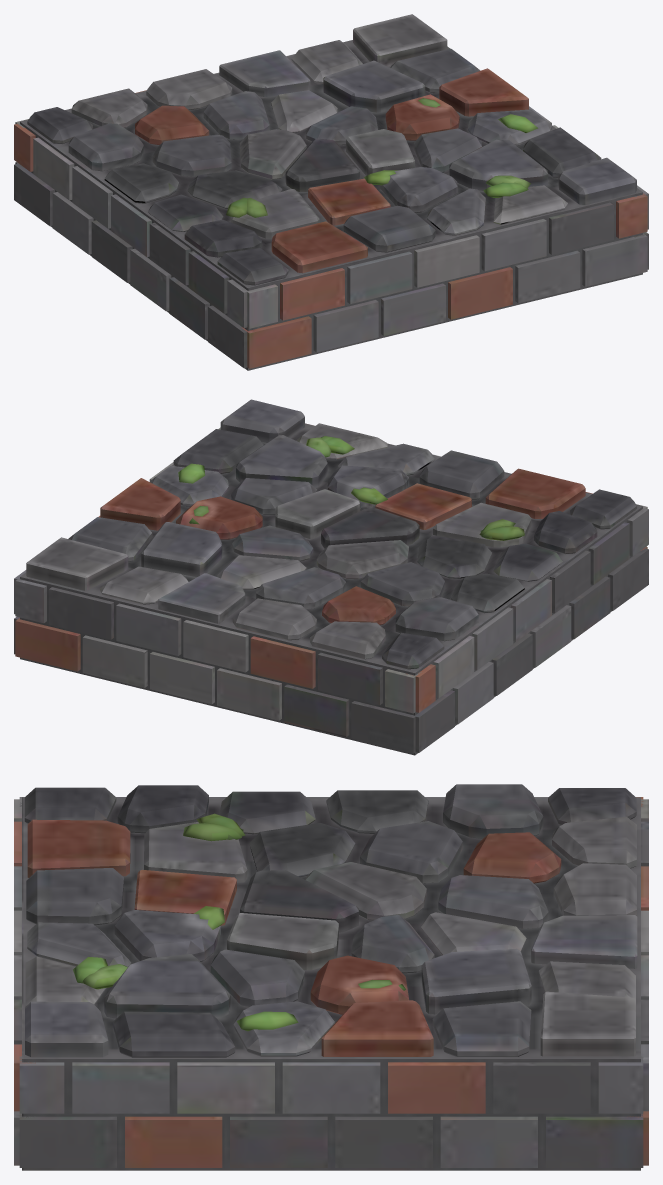
The model's file is plate_1_neutral.glb.
3 renders of one model, top to bottom at view 1: azimuth 30°, elevation 25°; view 2: azimuth 150°, elevation 25°; view 3: azimuth 270°, elevation 25°, orthographic. The views are drawn at different scales.
Visible parts, largest first — view 1: plate_1_neutral; view 2: plate_1_neutral; view 3: plate_1_neutral.
Boxes of the visible parts, x1=… form: plate_1_neutral: x1=14, y1=14, x2=648, y2=370; plate_1_neutral: x1=14, y1=399, x2=648, y2=755; plate_1_neutral: x1=14, y1=784, x2=648, y2=1170.
Bounding box in the file's own units: 2.01 × 0.464 × 2.01.
1 material, 1 textured.
